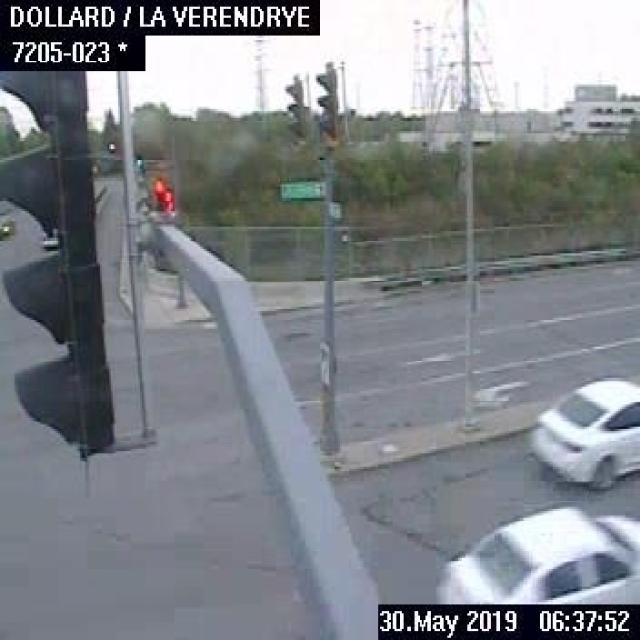vehicle: (433, 502, 638, 602), (526, 373, 638, 491), (0, 206, 18, 238), (40, 229, 56, 249)
